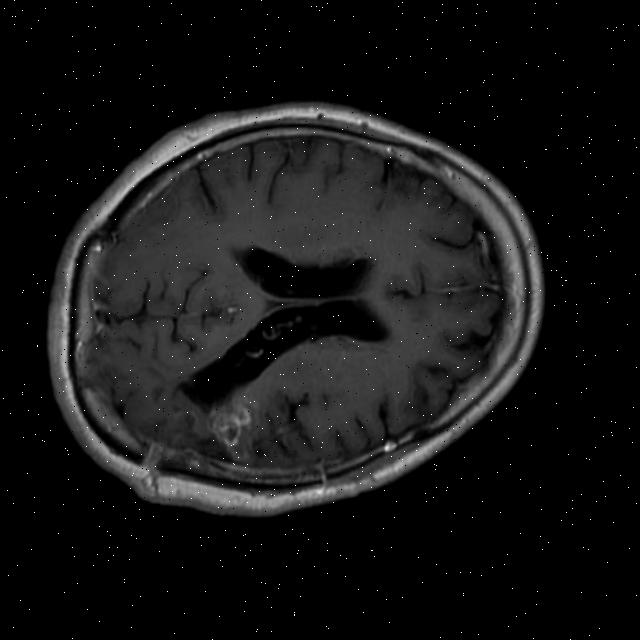Glioma: (206, 404, 253, 449)
